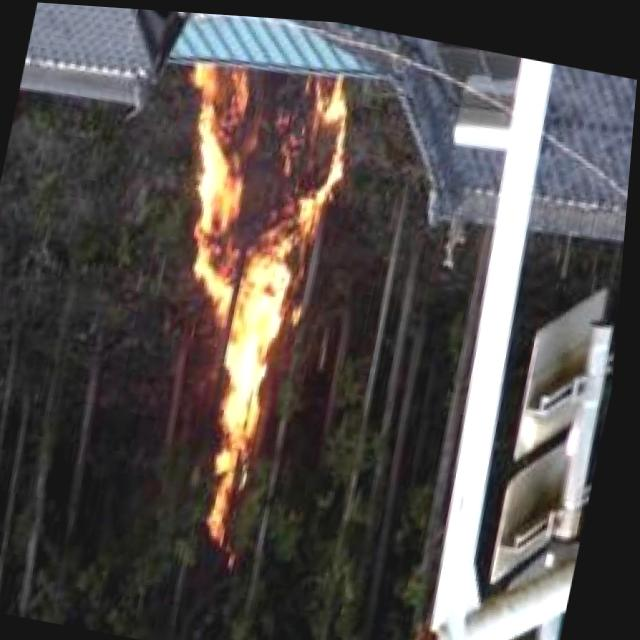Fire: (120, 42, 367, 538)
